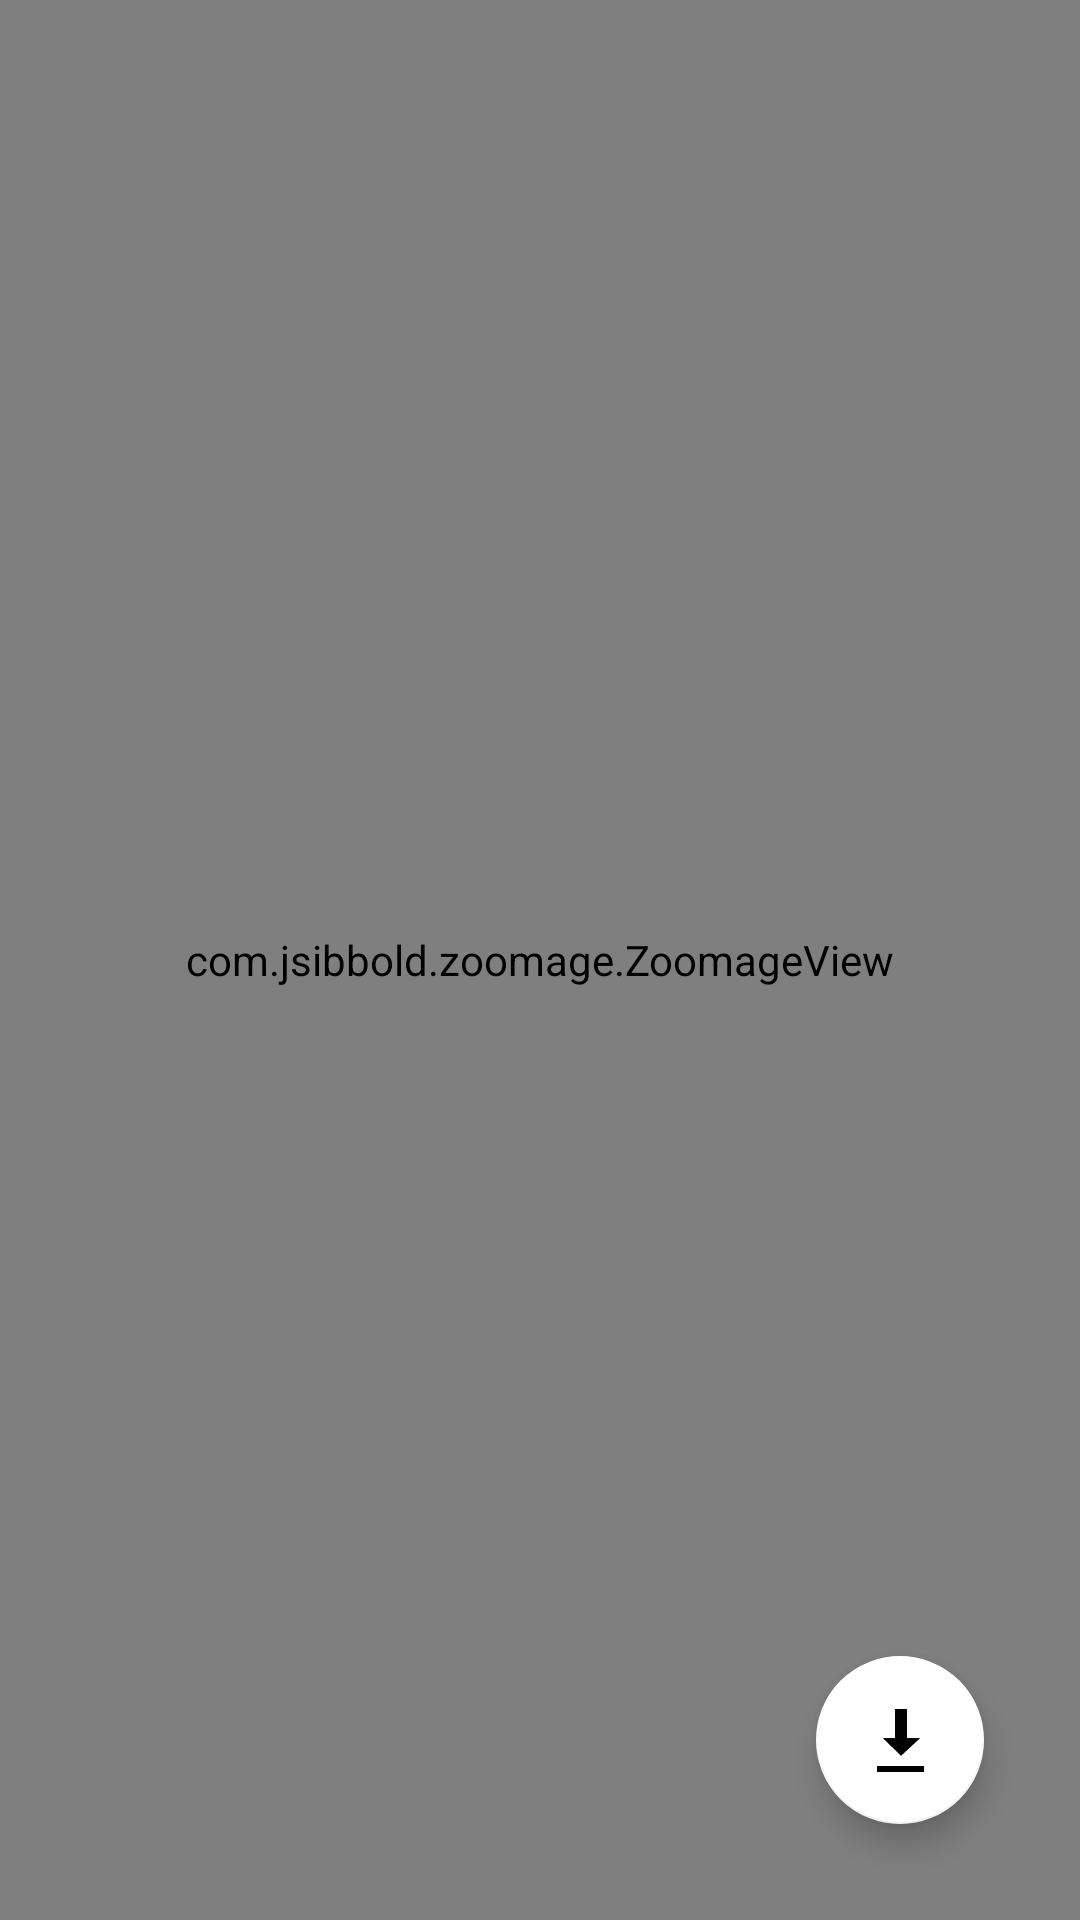

Screen size 1080*1920. Icon name, then its box in pixels as region(x1, y1, x2, y2):
download done: region(816, 1656, 984, 1824)
